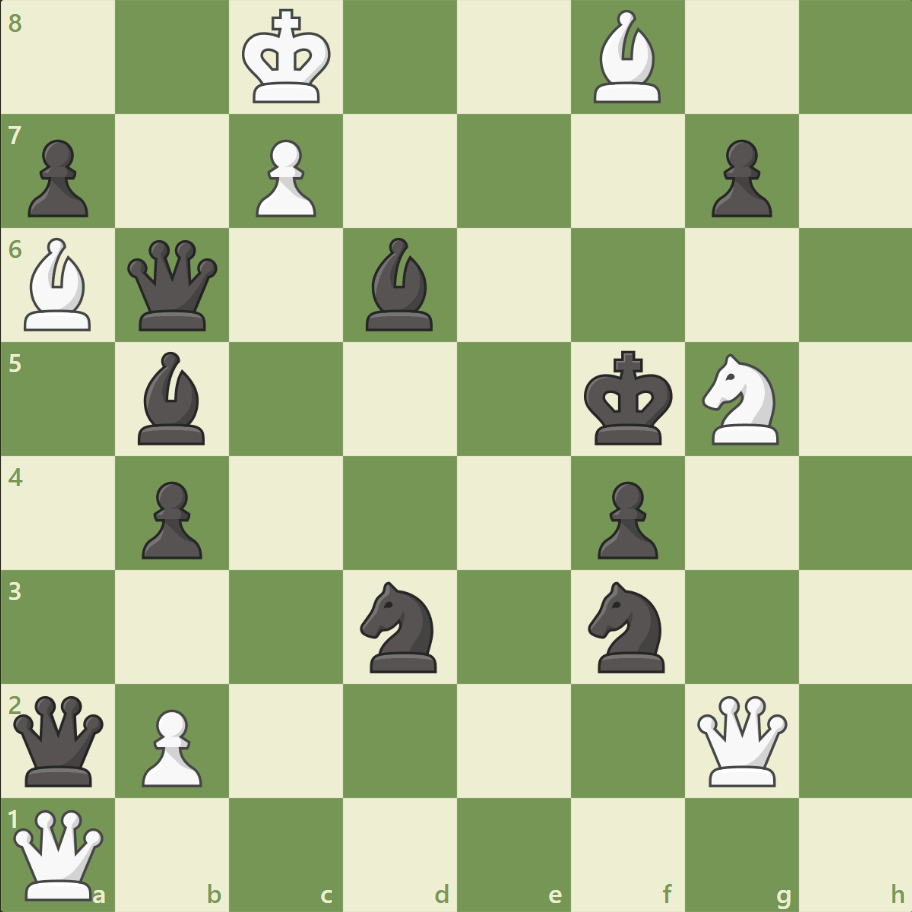B: (585, 6, 669, 109), (17, 233, 101, 336)
K: (238, 4, 338, 112)
N: (692, 348, 789, 450)
P: (247, 132, 322, 223), (133, 700, 208, 791)
Q: (691, 690, 790, 789), (10, 804, 109, 903)
b: (358, 233, 442, 336), (131, 347, 215, 449)
k: (579, 344, 679, 452)
n: (351, 575, 449, 677), (579, 575, 676, 677)
p: (20, 132, 95, 223), (701, 132, 776, 223), (133, 473, 208, 564), (588, 473, 662, 564)
q: (124, 236, 223, 335), (10, 690, 109, 789)
